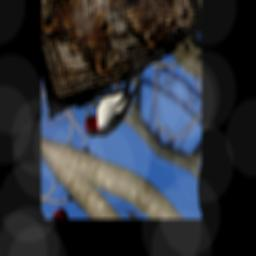Woodpecker: (74, 46, 144, 162)
